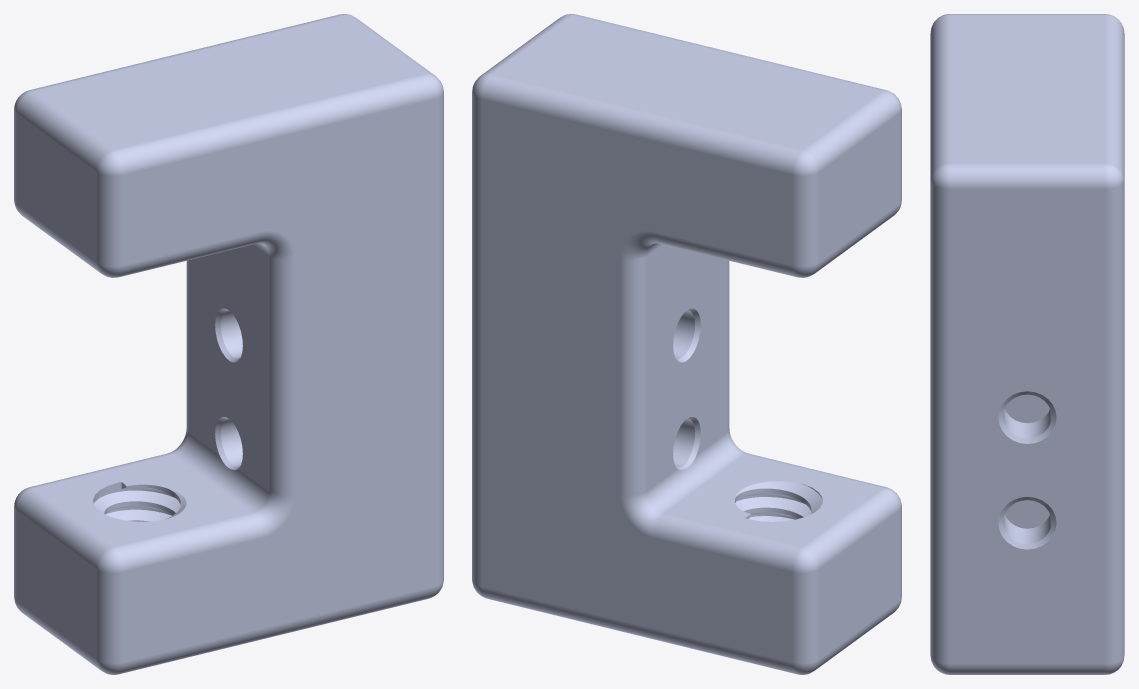
The model's file is Clamp Main.gltf.
The picture shows the model from 3 angles, left to right: view 1: azimuth 30°, elevation 25°; view 2: azimuth 150°, elevation 25°; view 3: azimuth 270°, elevation 25°; orthographic projection. The views are drawn at different scales.
Parts seen in each view (by area): view 1: Clamp Main; view 2: Clamp Main; view 3: Clamp Main.
Boxes of the visible parts, x1,y1,x2,y2 form: Clamp Main: (14,14,443,674); Clamp Main: (472,14,901,674); Clamp Main: (930,14,1124,674).
Bounding box in the file's own units: 0.04 × 0.058 × 0.02.
